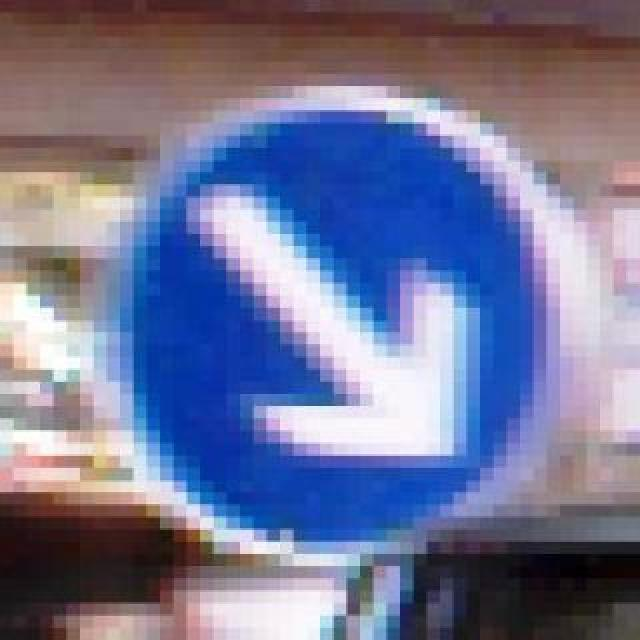keep right: (94, 74, 588, 554)
